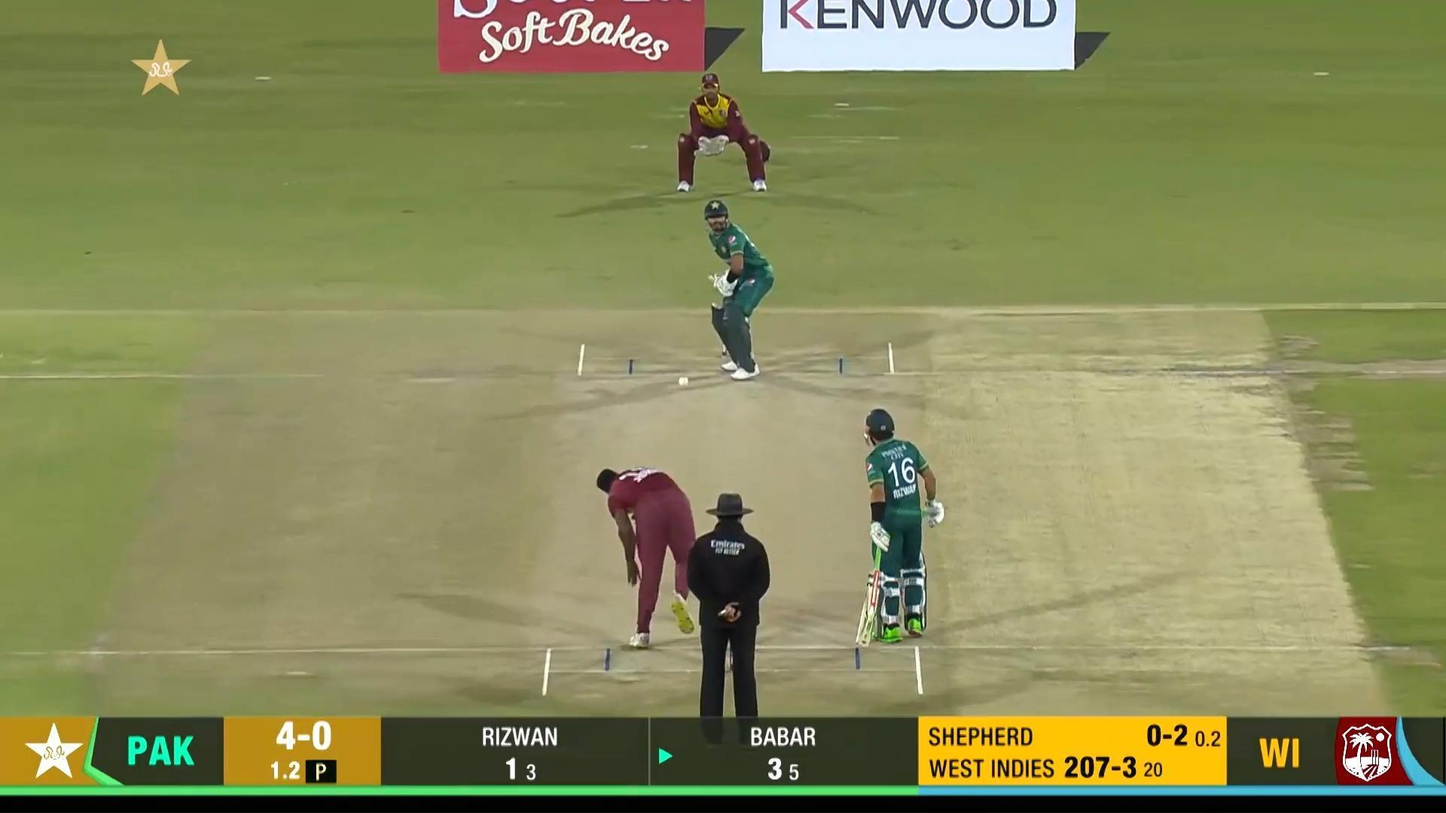BM 1: (703, 198, 776, 381)
BO: (598, 466, 697, 649)
